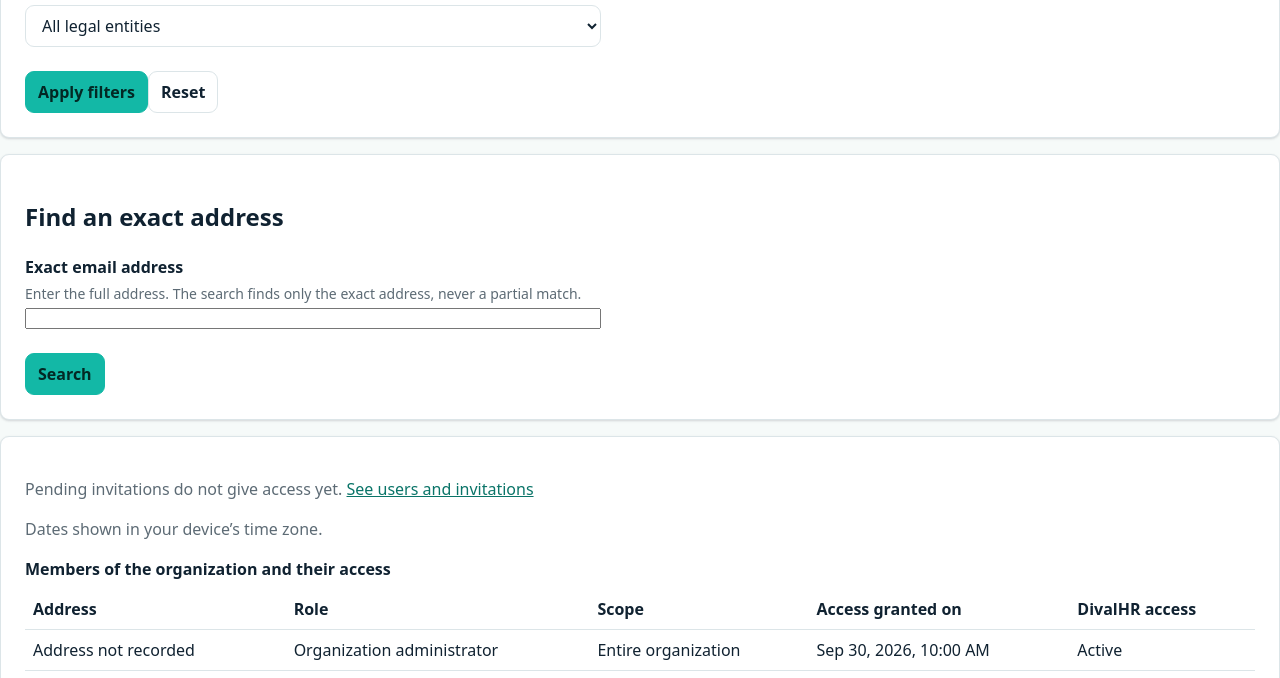
Test: access review (en) › shows an empty lookup without echoing the address
The image size is (1280, 678).
(page scrolled)
Type "personne@exemple.cd" into the field labelled "Exact email address" at (313, 319), box left=25, top=308, right=601, bottom=329
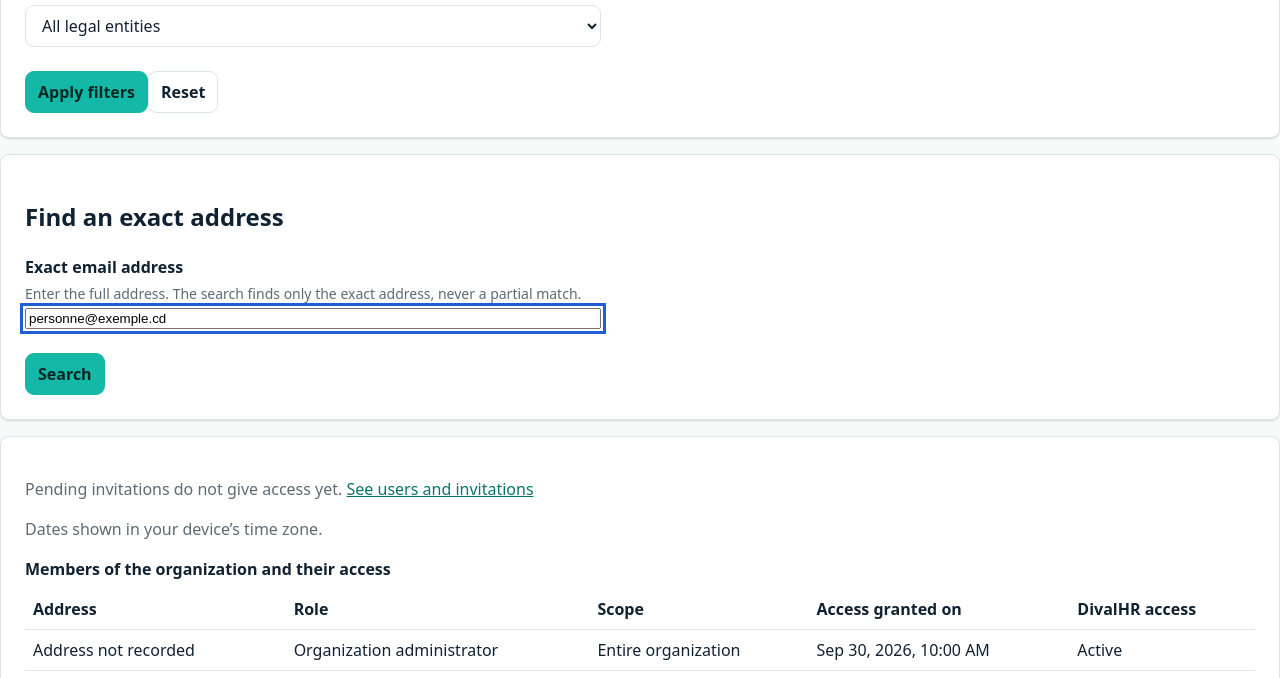
Click the button "Search" at (65, 374), box left=25, top=353, right=105, bottom=395
(page scrolled)
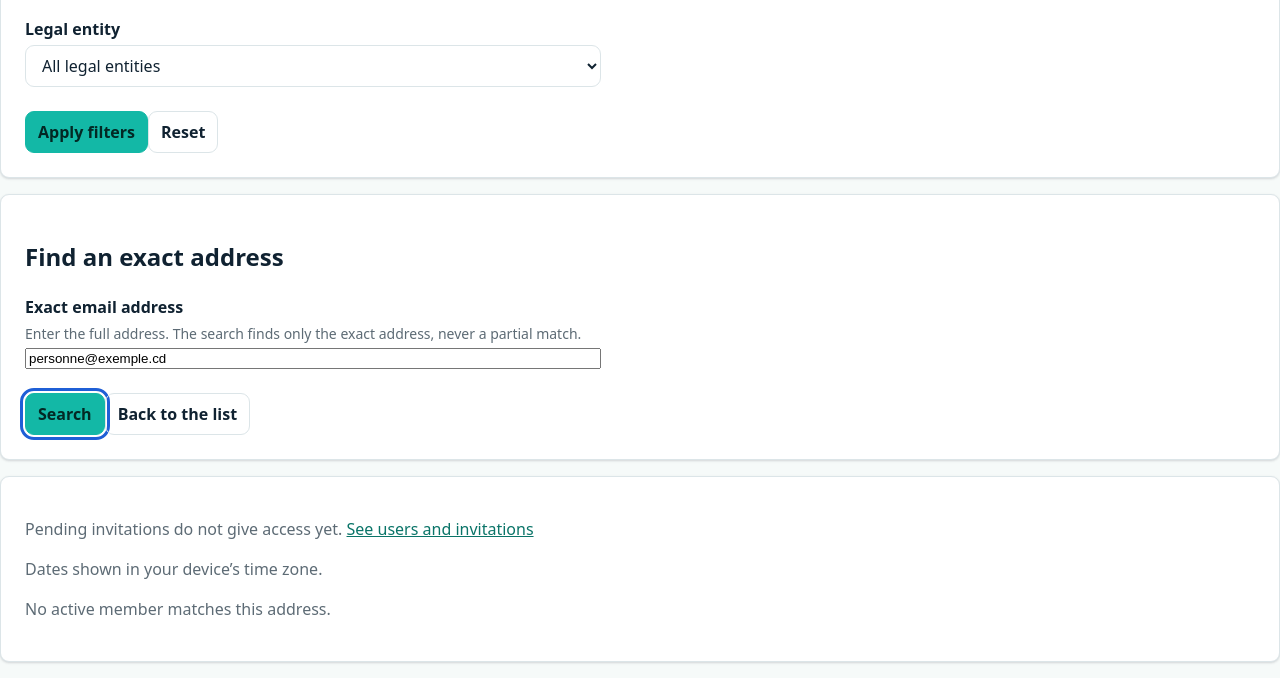
Check: the text with test id "review-empty" reads "No active member matches this address.", box left=25, top=598, right=331, bottom=620
